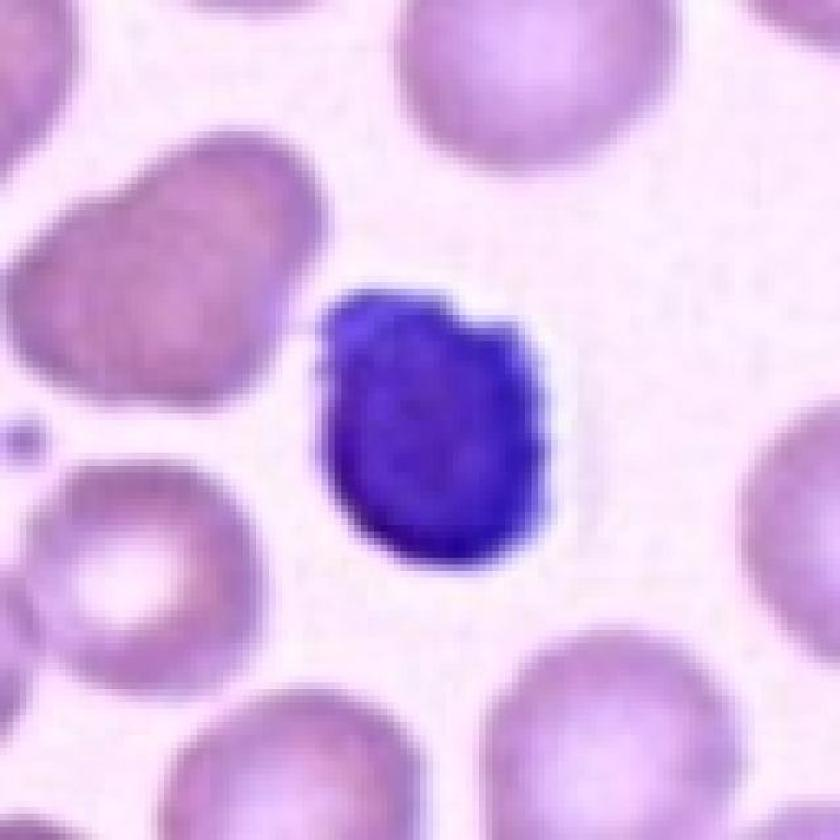lymphocyte: (300, 270, 572, 580)
